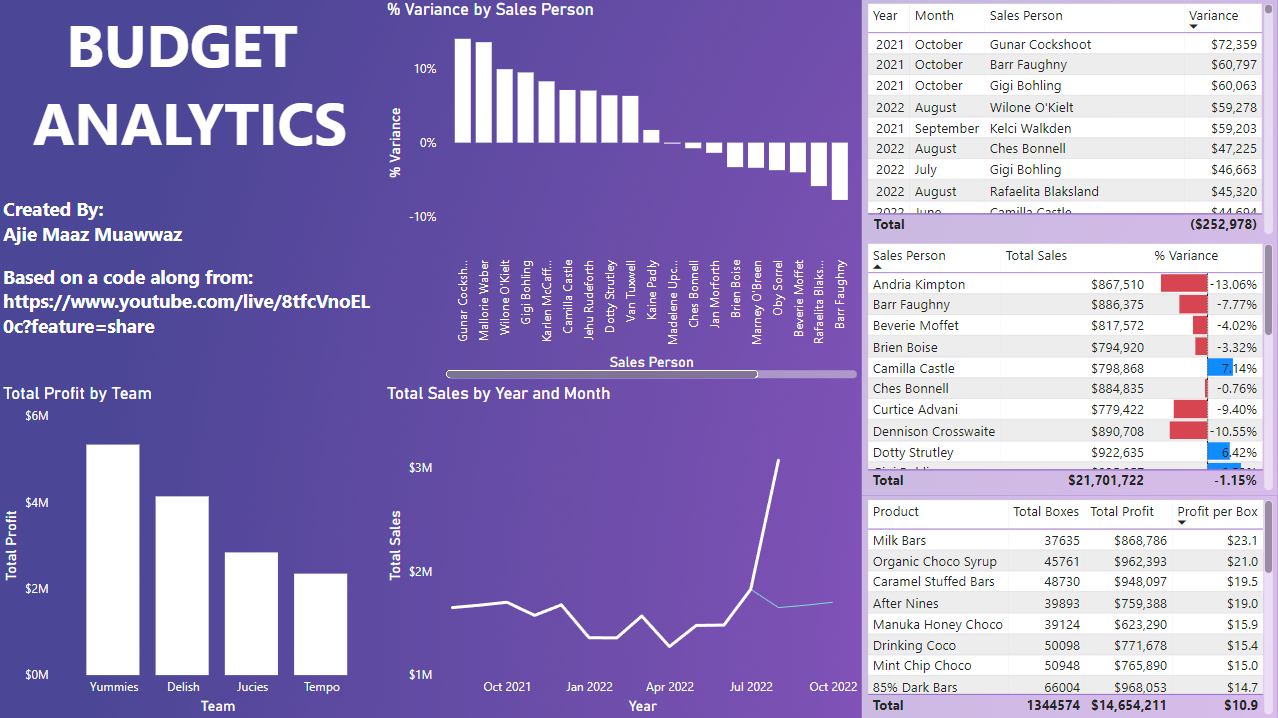

What the dashboard file says about the page in this screenshot:
{"tool":"powerbi","page":{"name":"Page 1","canvas":[1280,720],"ordinal":0},"visuals":[{"type":"tableEx","fields":{"Values":["Sales Person Lookup.Sales Person","Measures Table.Total Sales","Measures Table.% Variance"]},"box":[864,240,416,256],"z":1},{"type":"columnChart","fields":{"Category":["Sales Person Lookup.Sales Person"],"Y":["Measures Table.% Variance"]},"box":[384,0,480,384],"z":2},{"type":"tableEx","fields":{"Values":["Calendar Lookup.Date.Variation.Date Hierarchy.Year","Calendar Lookup.Date.Variation.Date Hierarchy.Month","Sales Person Lookup.Sales Person","Measures Table.Variance"]},"box":[864,0,416,240],"z":3},{"type":"tableEx","fields":{"Values":["Actuals.Product","Measures Table.Total Boxes","Measures Table.Total Profit","Measures Table.Profit per Box"]},"box":[864,496,416,224],"z":4},{"type":"clusteredColumnChart","fields":{"Category":["Actuals.Team"],"Y":["Measures Table.Total Profit"]},"box":[0,384,384,336],"z":5},{"type":"lineChart","fields":{"Category":["Calendar Lookup.Date.Variation.Date Hierarchy.Year","Calendar Lookup.Date.Variation.Date Hierarchy.Month"],"Y":["Measures Table.Total Sales"]},"box":[384,384,480,336],"z":6},{"type":"textbox","box":[0,0,384,192],"z":7},{"type":"textbox","box":[0,192,384,192],"z":8}]}

Visuals, with their boxes in screenshot pixels (x1, y1, x2, y2), scaled from the page's 1280x720 canvas onto the 1278x718 screenshot:
tableEx - Sales Person Lookup.Sales Person x Measures Table.Total Sales: x1=863 y1=239 x2=1277 y2=495
columnChart - Sales Person Lookup.Sales Person x Measures Table.% Variance: x1=383 y1=0 x2=863 y2=383
tableEx - Calendar Lookup.Date.Variation.Date Hierarchy.Year x Calendar Lookup.Date.Variation.Date Hierarchy.Month: x1=863 y1=0 x2=1277 y2=239
tableEx - Actuals.Product x Measures Table.Total Boxes: x1=863 y1=495 x2=1277 y2=717
clusteredColumnChart - Actuals.Team x Measures Table.Total Profit: x1=0 y1=383 x2=383 y2=717
lineChart - Calendar Lookup.Date.Variation.Date Hierarchy.Year x Calendar Lookup.Date.Variation.Date Hierarchy.Month: x1=383 y1=383 x2=863 y2=717
textbox: x1=0 y1=0 x2=383 y2=191
textbox: x1=0 y1=191 x2=383 y2=383
